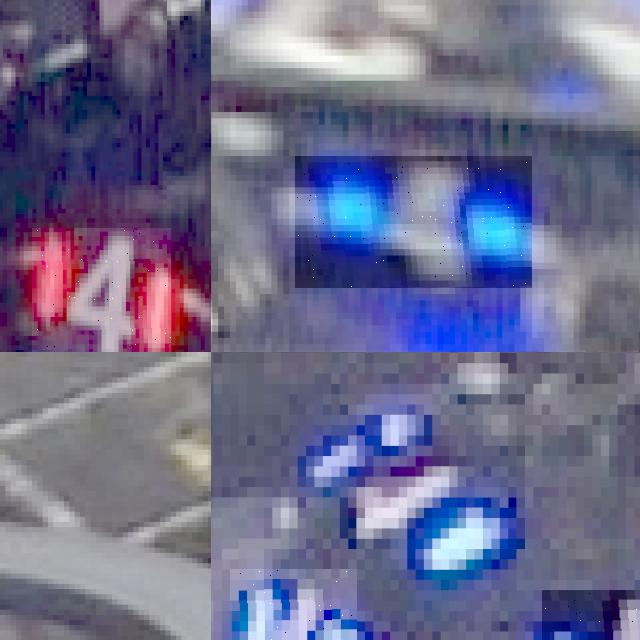B4: (295, 156, 532, 288), (230, 569, 356, 640), (541, 590, 640, 640)
R4: (32, 227, 171, 352)
